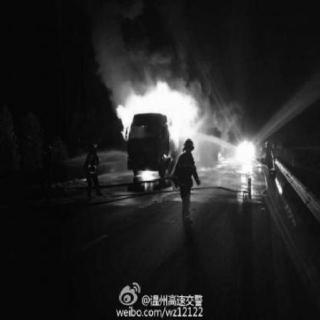Fire: (109, 69, 199, 187)
